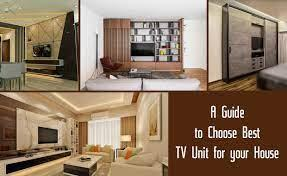TV: (33, 125, 62, 146), (127, 41, 157, 61), (30, 45, 56, 58), (251, 37, 263, 52)
bed: (254, 61, 287, 93)
chair: (0, 62, 20, 89), (97, 55, 121, 73), (16, 61, 28, 87)
console: (0, 149, 72, 173), (118, 60, 183, 73), (26, 57, 66, 67)
door: (0, 39, 11, 65)
fan: (1, 1, 23, 22)
light: (121, 132, 133, 149), (72, 2, 82, 10), (43, 13, 51, 21), (1, 13, 10, 20), (30, 18, 39, 23), (53, 18, 60, 22), (17, 8, 23, 12)
sofa: (87, 74, 205, 93), (113, 148, 162, 176), (82, 143, 115, 163)
table: (64, 152, 103, 176), (123, 66, 156, 77)
